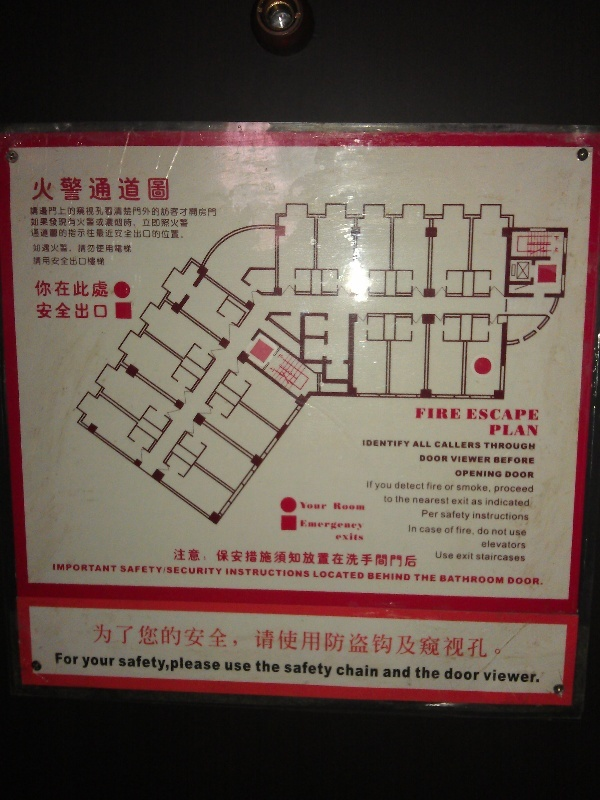text: (97, 621, 112, 661), (113, 621, 128, 661), (129, 621, 144, 661), (145, 621, 160, 661), (161, 621, 176, 661), (177, 621, 192, 661), (193, 621, 208, 661), (209, 621, 224, 661), (225, 621, 240, 661), (241, 621, 256, 661), (257, 621, 272, 661), (273, 621, 288, 661), (289, 621, 304, 661), (305, 621, 320, 661), (321, 621, 336, 661), (337, 621, 352, 661), (353, 621, 368, 661), (369, 621, 384, 661), (385, 621, 400, 661), (401, 621, 416, 661), (417, 621, 432, 661), (433, 621, 448, 661), (449, 621, 464, 661), (465, 621, 480, 661), (481, 621, 496, 661), (33, 177, 48, 202), (49, 177, 64, 202), (65, 177, 80, 202), (81, 177, 96, 202), (97, 177, 112, 202), (113, 177, 128, 202), (129, 177, 144, 202), (145, 177, 160, 202), (177, 548, 192, 568), (193, 548, 208, 568), (209, 548, 224, 568), (225, 548, 240, 568), (241, 548, 256, 568), (257, 548, 272, 568), (273, 548, 288, 568), (289, 548, 304, 568), (305, 548, 320, 568), (321, 548, 336, 568), (337, 548, 352, 568), (353, 548, 368, 568), (369, 548, 384, 568), (385, 548, 400, 568), (401, 548, 416, 568), (129, 654, 144, 673), (145, 654, 160, 673), (289, 660, 304, 679), (305, 660, 320, 679), (497, 621, 504, 661), (49, 280, 64, 297), (65, 280, 80, 297), (81, 280, 96, 297), (49, 302, 64, 319), (65, 302, 80, 319), (81, 302, 96, 319), (177, 657, 192, 674), (193, 657, 208, 674), (321, 660, 333, 679), (161, 177, 170, 202), (497, 669, 512, 684), (513, 669, 528, 684), (337, 663, 352, 678), (353, 663, 368, 678), (35, 280, 48, 297), (209, 657, 222, 674), (482, 669, 496, 684), (481, 408, 496, 422), (497, 408, 512, 422), (513, 408, 528, 422), (65, 652, 80, 666), (97, 656, 112, 670), (257, 660, 272, 674), (385, 665, 400, 679), (449, 667, 464, 681), (465, 667, 480, 681), (97, 280, 109, 297), (36, 302, 48, 319), (91, 621, 96, 661), (82, 656, 96, 670), (497, 425, 512, 438), (513, 425, 528, 438), (417, 408, 432, 421), (433, 408, 448, 421), (417, 667, 432, 680), (97, 302, 108, 319), (467, 408, 480, 422), (529, 669, 541, 684), (33, 217, 48, 229), (49, 217, 64, 229), (65, 217, 80, 229), (81, 217, 96, 229), (97, 217, 112, 229), (113, 217, 128, 229), (129, 217, 144, 229), (145, 217, 160, 229), (161, 217, 176, 229), (497, 484, 512, 496), (513, 484, 528, 496), (449, 510, 464, 522), (225, 661, 240, 673), (119, 654, 128, 673), (161, 654, 170, 673), (33, 206, 48, 217), (49, 206, 64, 217), (65, 206, 80, 217), (81, 206, 96, 217), (97, 206, 112, 217), (113, 206, 128, 217), (129, 206, 144, 217), (145, 206, 160, 217), (161, 206, 176, 217), (177, 206, 192, 217), (193, 206, 208, 217), (481, 552, 496, 563), (497, 552, 512, 563), (481, 511, 496, 522), (497, 511, 512, 522), (513, 511, 528, 522), (305, 520, 320, 531), (321, 520, 336, 531), (337, 520, 352, 531), (401, 481, 416, 492), (129, 565, 144, 576), (145, 565, 160, 576), (161, 565, 176, 576), (177, 565, 192, 576), (193, 565, 208, 576), (241, 568, 256, 579), (257, 568, 272, 579), (273, 568, 288, 579), (289, 568, 304, 579), (369, 663, 380, 678), (449, 408, 461, 421), (529, 408, 540, 422), (209, 565, 223, 576), (226, 568, 240, 579), (65, 563, 80, 573), (81, 563, 96, 573), (97, 563, 112, 573), (33, 244, 48, 254), (49, 244, 64, 254), (65, 244, 80, 254), (81, 244, 96, 254), (97, 244, 112, 254), (113, 244, 128, 254), (481, 540, 496, 550), (497, 540, 512, 550), (513, 540, 528, 550), (465, 483, 480, 493), (321, 570, 336, 580), (337, 570, 352, 580), (449, 575, 464, 585), (465, 575, 480, 585), (481, 575, 496, 585), (177, 217, 189, 229), (529, 577, 545, 586), (513, 552, 526, 563), (401, 665, 411, 679), (369, 439, 384, 448), (385, 439, 400, 448), (33, 229, 48, 238), (49, 229, 64, 238), (65, 229, 80, 238), (81, 229, 96, 238), (97, 229, 112, 238), (113, 229, 128, 238), (129, 229, 144, 238), (145, 229, 160, 238), (161, 229, 176, 238), (33, 257, 48, 266), (49, 257, 64, 266), (65, 257, 80, 266), (81, 257, 96, 266), (433, 454, 448, 463), (497, 498, 512, 507), (513, 498, 528, 507), (417, 440, 432, 449), (449, 441, 464, 450), (465, 441, 480, 450), (497, 442, 512, 451), (513, 442, 528, 451), (465, 455, 480, 464), (337, 502, 352, 511), (369, 573, 384, 582), (385, 573, 400, 582), (417, 574, 432, 583), (513, 577, 528, 586), (241, 661, 252, 673), (529, 425, 539, 438), (433, 497, 449, 505), (450, 455, 464, 464), (55, 652, 64, 666), (273, 660, 282, 674), (353, 520, 364, 531), (52, 563, 64, 573), (465, 470, 480, 478), (481, 470, 496, 478), (305, 502, 320, 510), (337, 533, 352, 541), (497, 457, 512, 465), (513, 457, 528, 465), (513, 471, 528, 479), (417, 497, 432, 505), (353, 570, 365, 580), (435, 441, 448, 450), (483, 442, 496, 451), (353, 502, 366, 511), (513, 529, 527, 537), (481, 483, 492, 493), (420, 454, 432, 463), (436, 551, 448, 560), (451, 497, 464, 505), (433, 667, 441, 680), (433, 482, 443, 492), (422, 509, 432, 519), (465, 526, 475, 536), (209, 206, 218, 217), (485, 498, 496, 507), (481, 455, 492, 464), (417, 481, 426, 492), (497, 528, 508, 537), (401, 573, 412, 582), (420, 526, 432, 534), (489, 425, 496, 438), (401, 439, 411, 448), (375, 482, 384, 492), (465, 552, 475, 561), (497, 575, 506, 585), (353, 533, 364, 541), (171, 657, 176, 674), (441, 510, 448, 522), (97, 257, 106, 266), (401, 495, 410, 504), (385, 482, 393, 492), (433, 526, 443, 534), (456, 526, 464, 536), (440, 575, 448, 585), (473, 511, 480, 522), (121, 565, 128, 576), (455, 470, 464, 478), (529, 484, 535, 496), (408, 524, 416, 533), (529, 442, 537, 451), (465, 510, 471, 522), (457, 483, 464, 493), (313, 570, 320, 580), (394, 481, 400, 492), (305, 568, 311, 579), (385, 495, 393, 503), (481, 527, 489, 535), (177, 229, 184, 238), (457, 552, 464, 561), (173, 548, 176, 568), (285, 660, 288, 679), (505, 471, 512, 479), (472, 499, 480, 506), (444, 667, 448, 681), (362, 439, 368, 448), (449, 551, 455, 560), (113, 563, 118, 573), (129, 244, 134, 254), (427, 482, 432, 492), (433, 509, 438, 519), (497, 470, 503, 478), (321, 502, 327, 510), (529, 457, 535, 465), (529, 471, 535, 479), (449, 526, 455, 534), (369, 480, 374, 489), (395, 495, 400, 504), (433, 574, 438, 583), (476, 552, 480, 563), (281, 354, 288, 360), (493, 484, 496, 496), (492, 528, 496, 537), (508, 577, 512, 586), (301, 520, 304, 531), (465, 497, 469, 505), (554, 236, 560, 241), (449, 485, 454, 491), (554, 247, 560, 252), (113, 656, 115, 670), (273, 365, 276, 374), (413, 440, 416, 449), (333, 502, 336, 511), (413, 574, 416, 583), (414, 408, 416, 421), (30, 217, 32, 229), (301, 502, 304, 510), (493, 457, 496, 465), (413, 497, 416, 505), (445, 526, 448, 534), (477, 527, 480, 535), (30, 206, 32, 217), (529, 511, 531, 522), (417, 548, 418, 568), (366, 480, 368, 489), (445, 485, 448, 491), (510, 529, 512, 537), (481, 499, 483, 506), (383, 665, 384, 679), (415, 667, 416, 680), (31, 229, 32, 238), (529, 498, 530, 507), (417, 524, 418, 533), (481, 441, 482, 450)
